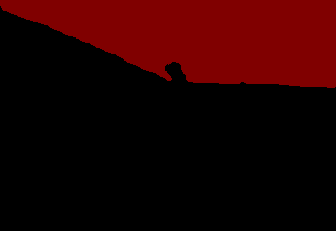Sky: (1, 1, 335, 88)
